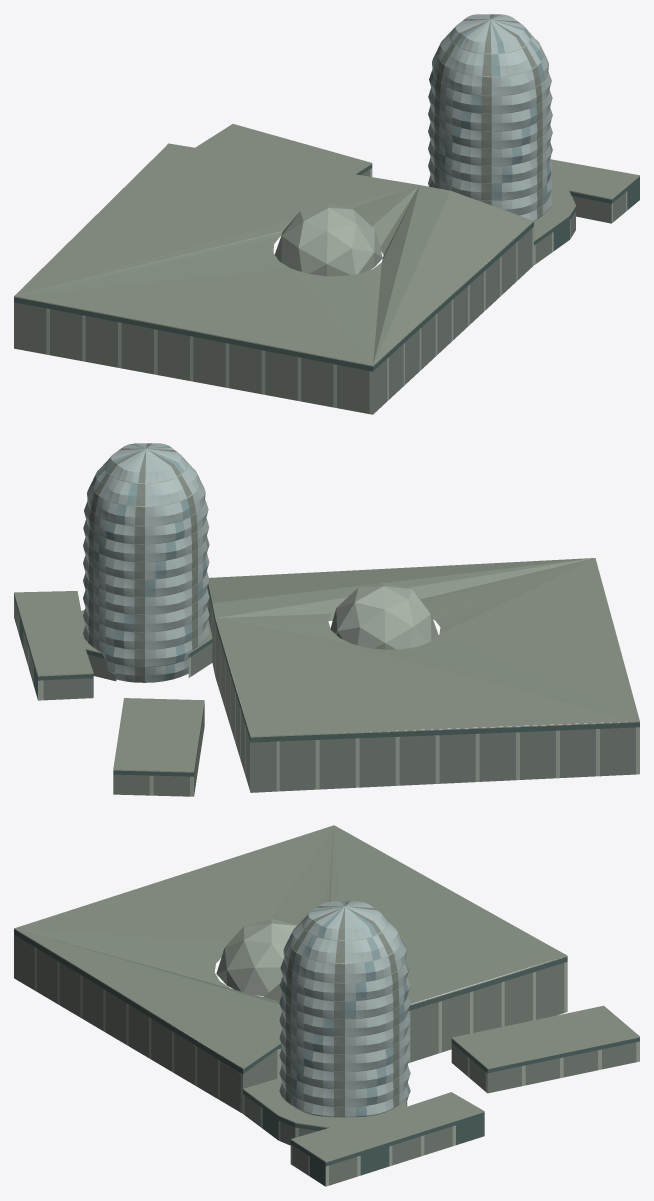
The model's file is national-space-centre-far.glb.
The picture shows the model from 3 angles, top to bottom: view 1: azimuth 30°, elevation 25°; view 2: azimuth 150°, elevation 25°; view 3: azimuth 270°, elevation 25°; orthographic projection.
Parts seen in each view (by area): view 1: national-space-centre-0-roof, national-space-centre-0-metal, national-space-centre-0-etfe, national-space-centre-0-frame, national-space-centre-0-dome, national-space-centre-0-glass, national-space-centre-0-etfeShade; view 2: national-space-centre-0-roof, national-space-centre-0-metal, national-space-centre-0-etfe, national-space-centre-0-frame, national-space-centre-0-dome, national-space-centre-0-glass, national-space-centre-0-etfeShade; view 3: national-space-centre-0-roof, national-space-centre-0-metal, national-space-centre-0-etfe, national-space-centre-0-frame, national-space-centre-0-glass, national-space-centre-0-dome, national-space-centre-0-etfeShade.
Boxes of the visible parts, box(x1,y1,x2,y2) form: national-space-centre-0-roof: box(14, 124, 639, 365); national-space-centre-0-metal: box(14, 14, 625, 414); national-space-centre-0-etfe: box(428, 14, 552, 221); national-space-centre-0-frame: box(14, 33, 639, 414); national-space-centre-0-dome: box(276, 204, 382, 276); national-space-centre-0-glass: box(14, 164, 639, 371); national-space-centre-0-etfeShade: box(429, 14, 552, 204); national-space-centre-0-roof: box(14, 558, 639, 771); national-space-centre-0-metal: box(14, 443, 635, 796); national-space-centre-0-etfe: box(83, 443, 209, 682); national-space-centre-0-frame: box(14, 463, 639, 796); national-space-centre-0-dome: box(330, 582, 438, 649); national-space-centre-0-glass: box(14, 584, 639, 776); national-space-centre-0-etfeShade: box(83, 443, 209, 680); national-space-centre-0-roof: box(14, 825, 639, 1161); national-space-centre-0-metal: box(14, 901, 636, 1185); national-space-centre-0-etfe: box(279, 901, 410, 1117); national-space-centre-0-frame: box(14, 923, 639, 1186); national-space-centre-0-glass: box(14, 929, 639, 1186); national-space-centre-0-dome: box(217, 919, 296, 996); national-space-centre-0-etfeShade: box(279, 901, 410, 1117).
Size of the model in its own units: 132 by 42 by 113.
